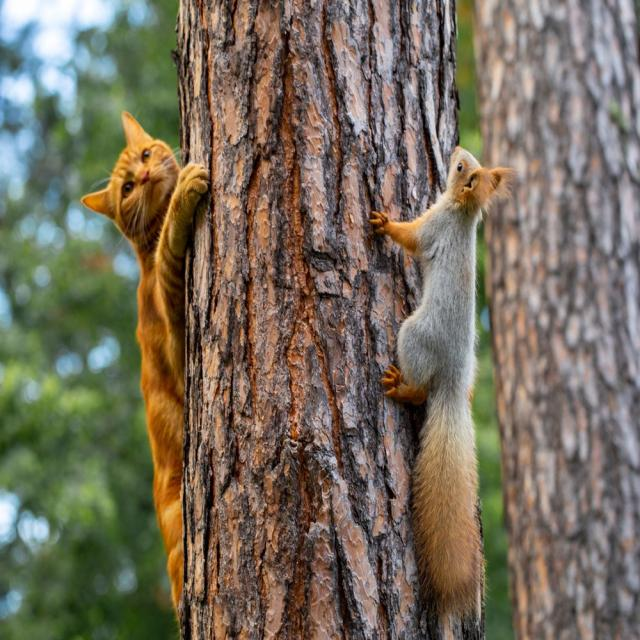Squirrel: (367, 140, 492, 626)
